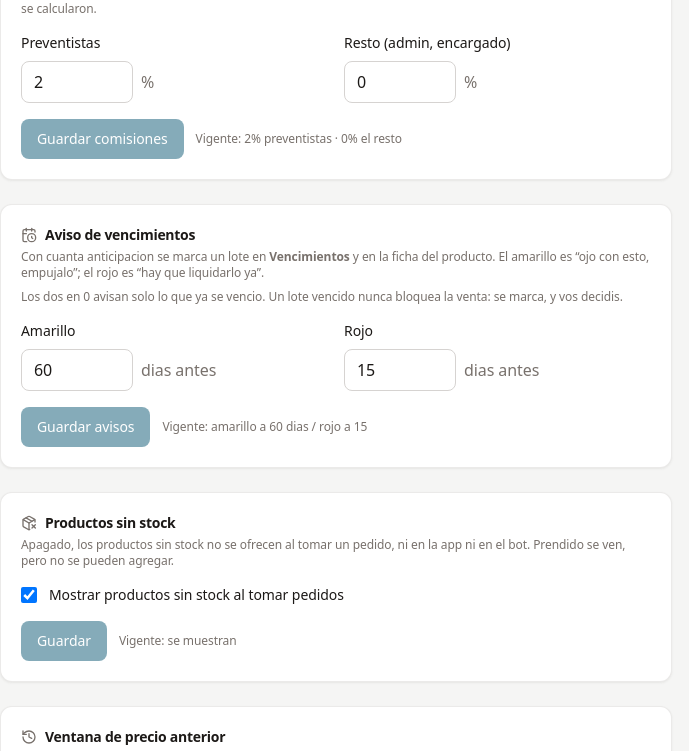
Test: VistaConfiguracion — comisión por defecto › los días del aviso: «1500» se ve «1.500», y «1.5» (una coma) no es un día
This screenshot has width=689, height=751.
(page scrolled)
Replace the text in the field labelled "Amarillo" with "1500" at (77, 370), box [21, 349, 133, 391]
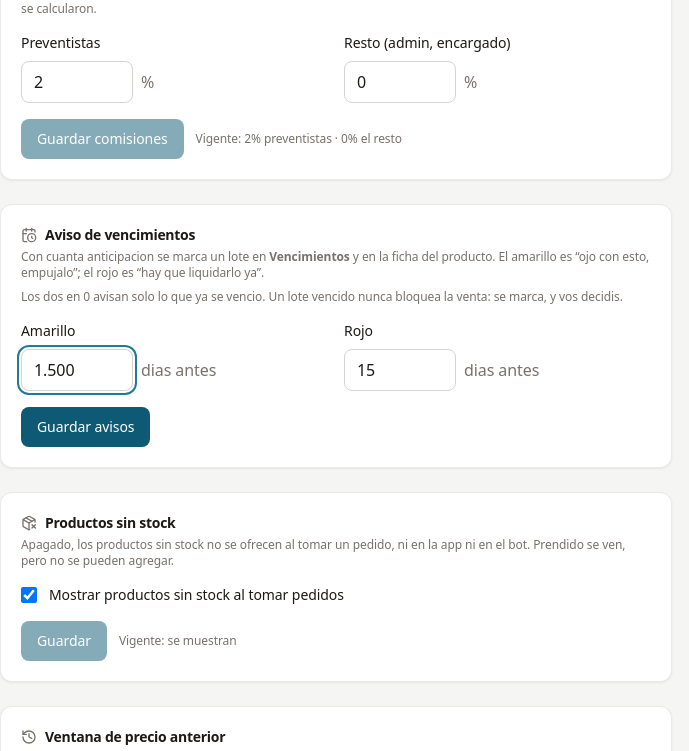
Expected: the field labelled "Amarillo" holds "1.500"
Replace the text in the field labelled "Amarillo" with "1.5" at (77, 370), box [21, 349, 133, 391]
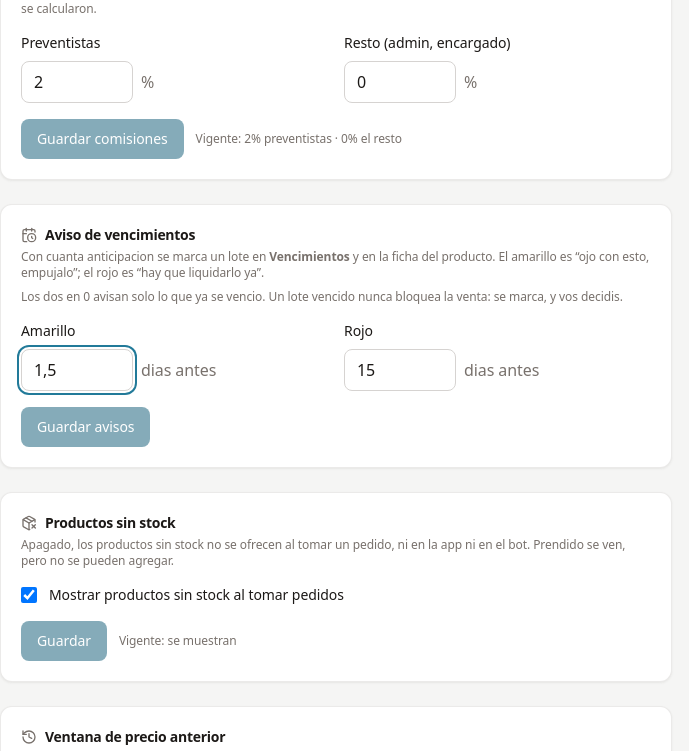
Expected: the field labelled "Amarillo" holds "1,5", [21, 349, 133, 391]
